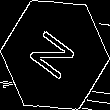N_SE: (26, 24, 84, 86)
